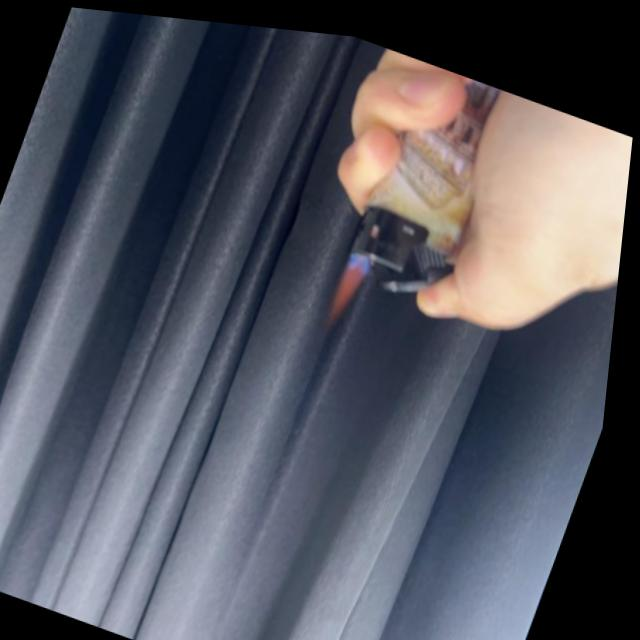Fire: (326, 237, 380, 321)
